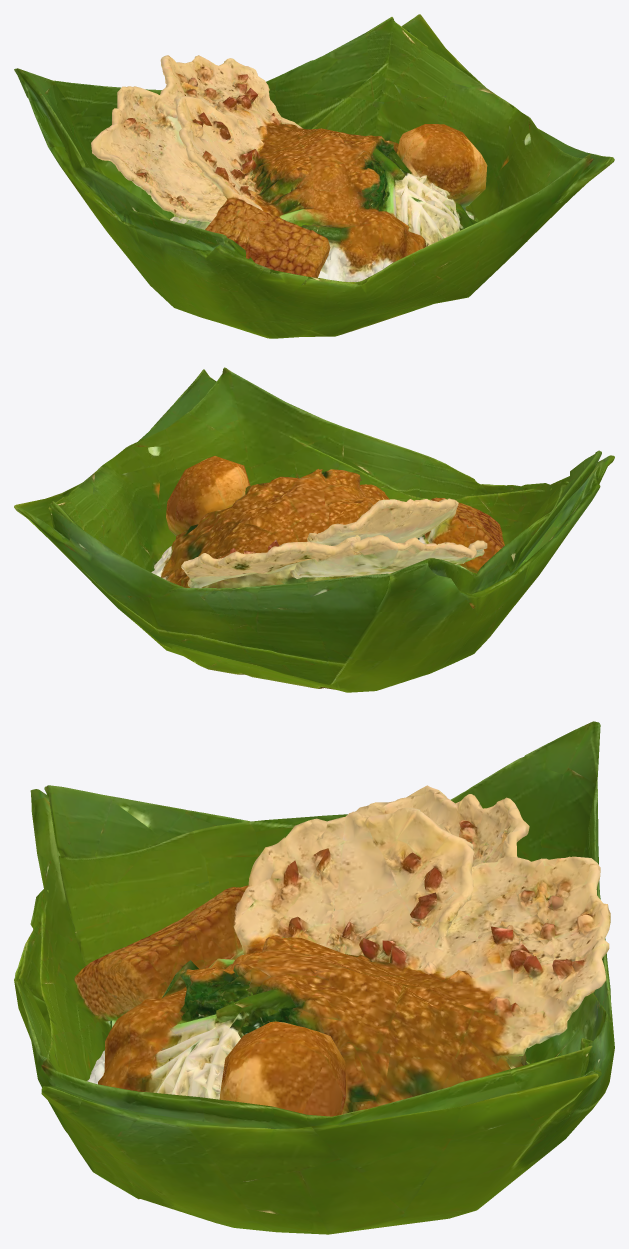
Rendered from pecel-madiun.glb.
3 renders of one model, top to bottom at view 1: azimuth 30°, elevation 25°; view 2: azimuth 150°, elevation 25°; view 3: azimuth 270°, elevation 25°, orthographic. The views are drawn at different scales.
Parts seen in each view (by area): view 1: Object_5; view 2: Object_5; view 3: Object_5.
Part boxes in pixels (left/top/right/bottom): Object_5: left=14, top=14, right=614, bottom=338; Object_5: left=14, top=367, right=614, bottom=692; Object_5: left=14, top=721, right=614, bottom=1234.
Bounding box in the file's own units: 1.89 × 0.8579 × 1.62.
1 material, 1 textured.
